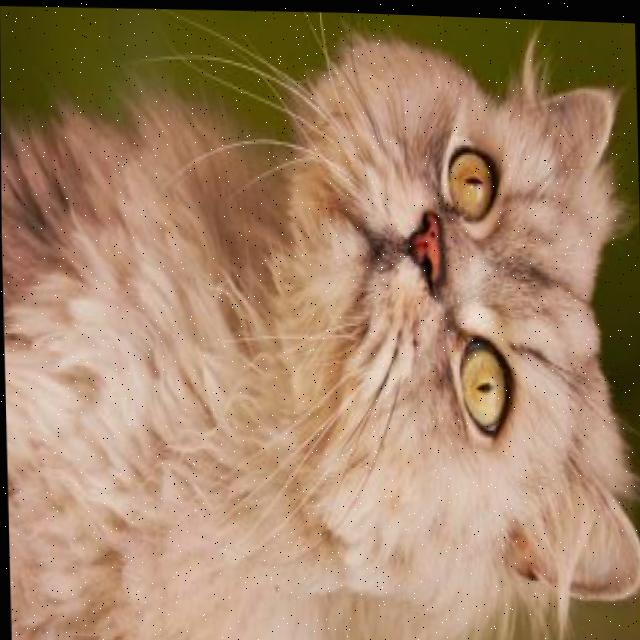Persian: (0, 6, 640, 640)
